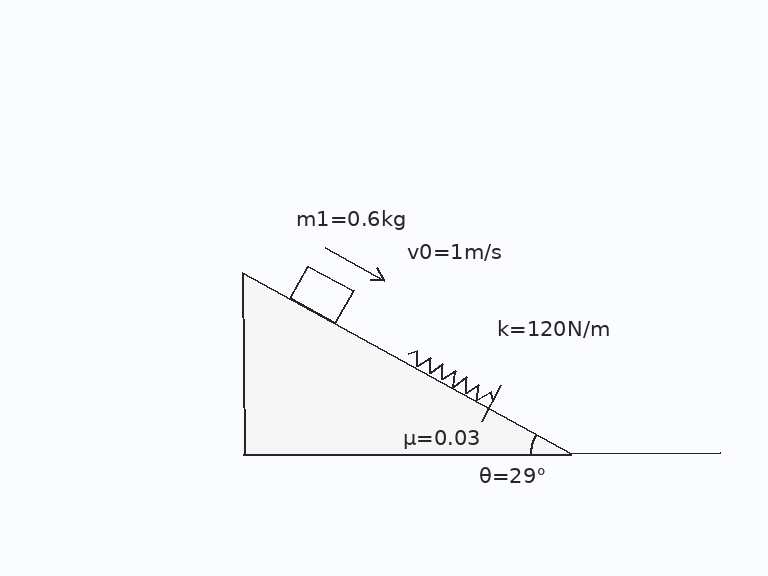block: (288, 264, 355, 325)
ramp: (241, 270, 573, 456)
spring: (406, 349, 495, 403)
